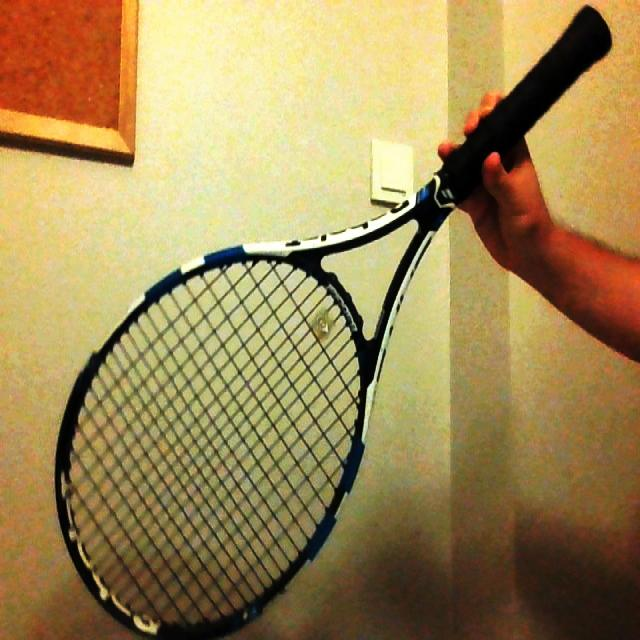TennisRacket: (57, 11, 608, 640)
